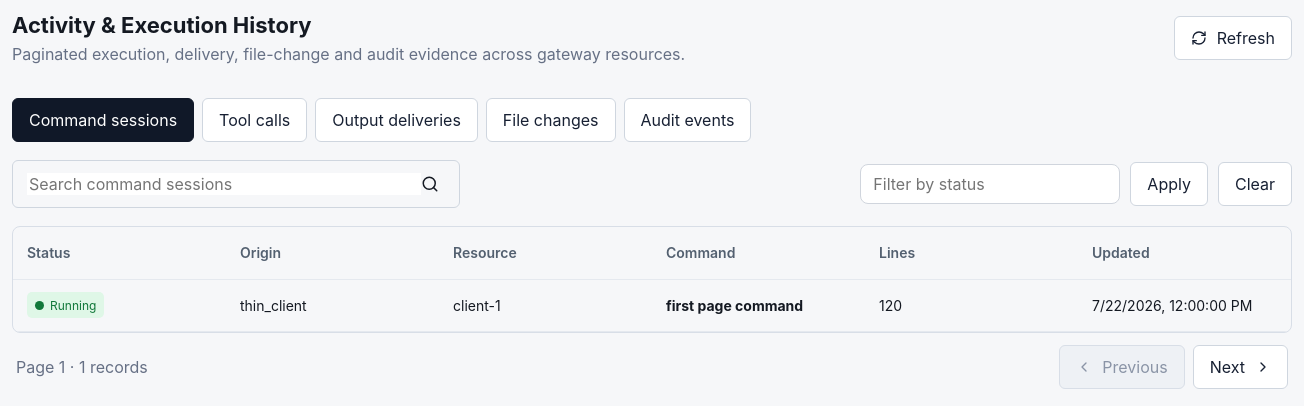
uses opaque server cursors without duplicating activity rows
The image size is (1304, 406).
Expected: the text "first page command" is shown, x1=666 y1=296 x2=803 y2=314
Click the button "Next" at (1240, 366), box x1=1193 y1=344 x2=1288 y2=388
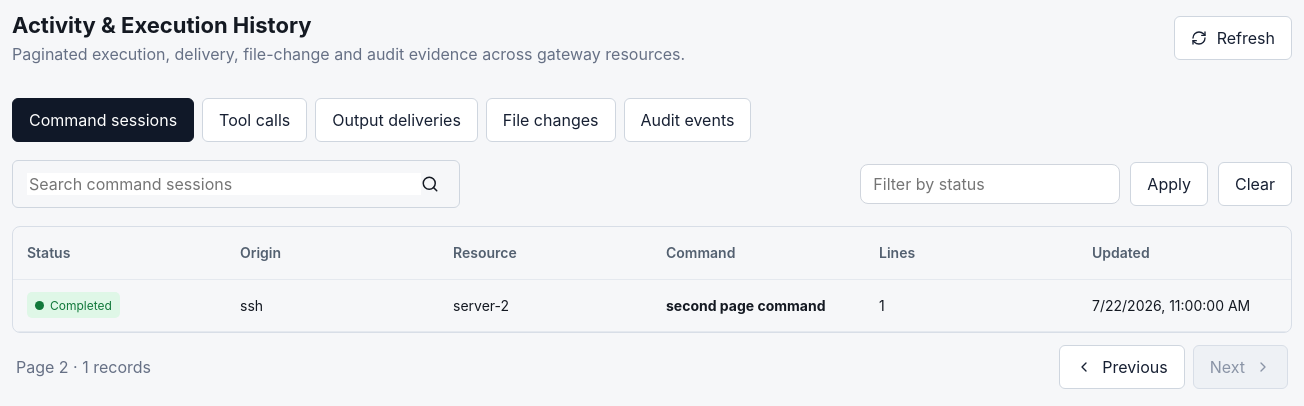
Expected: the text "second page command" is shown, x1=666 y1=296 x2=826 y2=314
Expected: the text "first page command" is gone
Expected: the text "Page 2 · 1 records" is shown, x1=16 y1=356 x2=151 y2=376
Click the button "Previous" at (1122, 366), box x1=1059 y1=344 x2=1185 y2=388
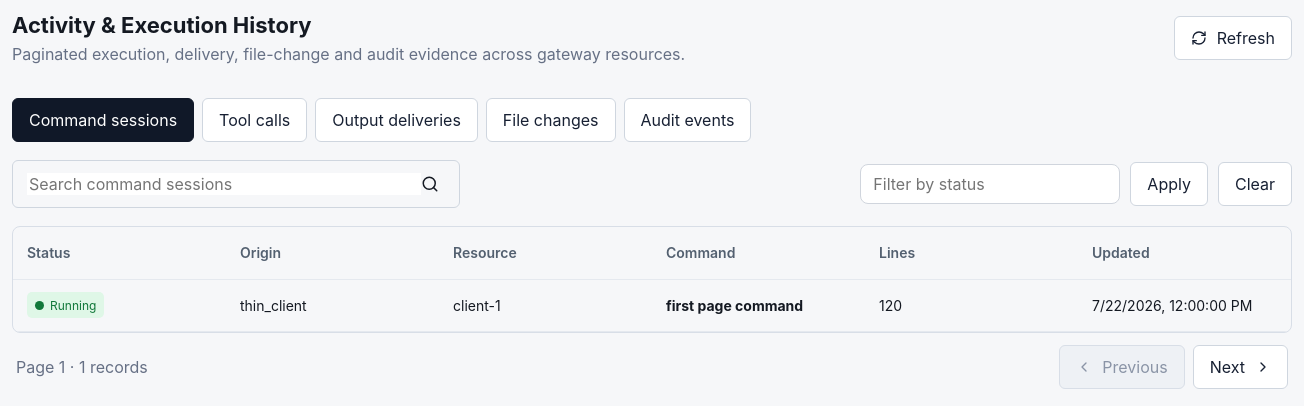
Expected: the text "first page command" is shown, x1=666 y1=296 x2=803 y2=314
